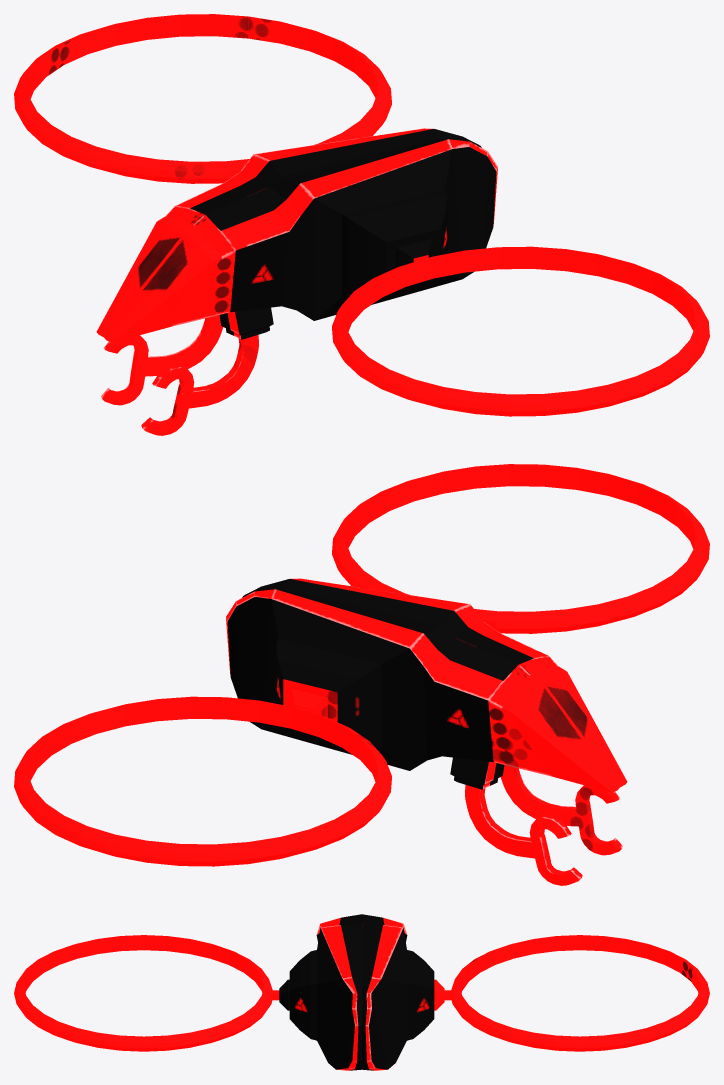
The model's file is Dron De Tron Legacyxd.fbx.
3 renders of one model, top to bottom at view 1: azimuth 30°, elevation 25°; view 2: azimuth 150°, elevation 25°; view 3: azimuth 270°, elevation 25°, orthographic. The views are drawn at different scales.
Parts seen in each view (by area): view 1: Cube; view 2: Cube; view 3: Cube.
Boxes of the visible parts, x1,y1,x2,y2 form: Cube: (14,14,709,435); Cube: (14,464,709,885); Cube: (14,914,709,1070).
Size of the model in its own units: 200 by 95.66 by 414.
3 materials, 3 textured.
